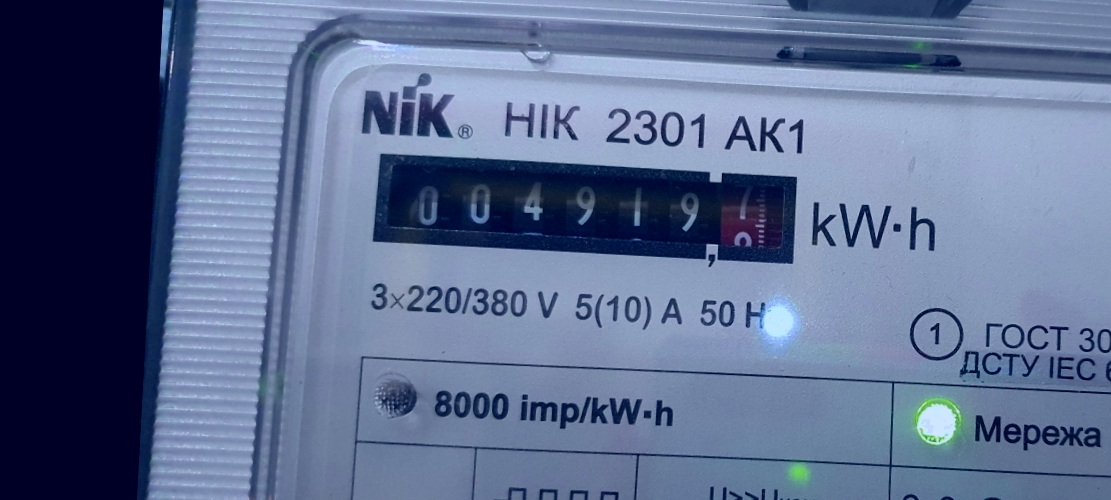0: (465, 179, 494, 226), (414, 181, 440, 226)
1: (628, 182, 645, 229)
4: (519, 177, 545, 221)
7: (729, 181, 755, 222)
9: (675, 187, 701, 235), (572, 183, 597, 228)
screen: (360, 138, 815, 282)
